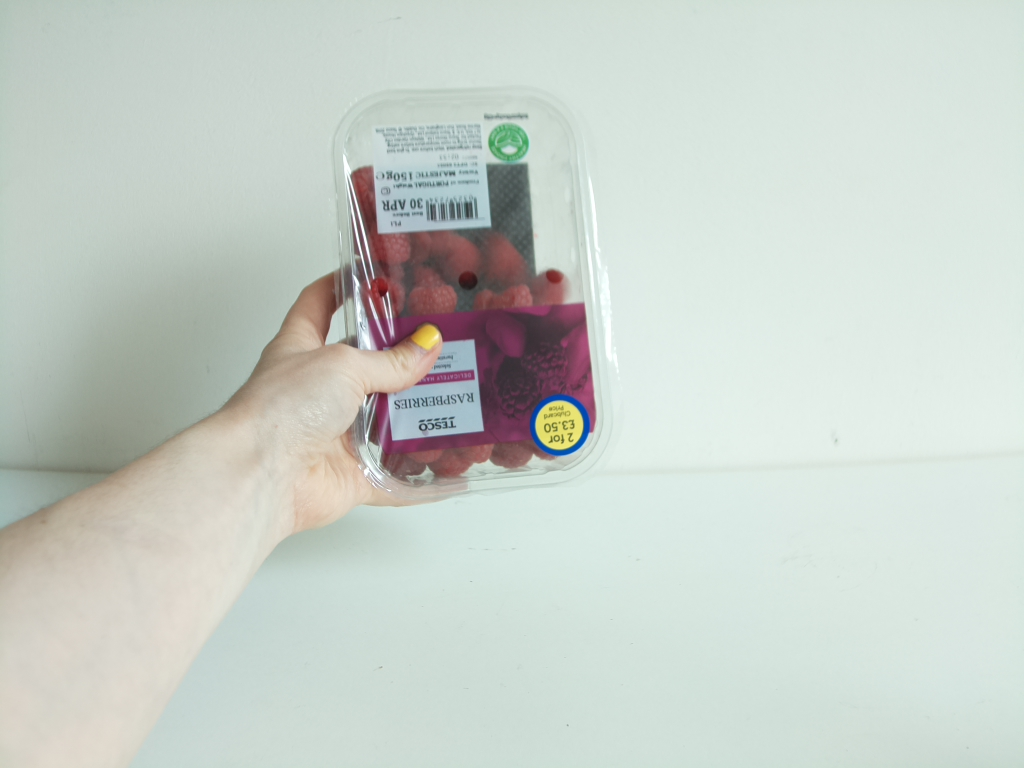soft-fruit: (331, 91, 622, 498)
